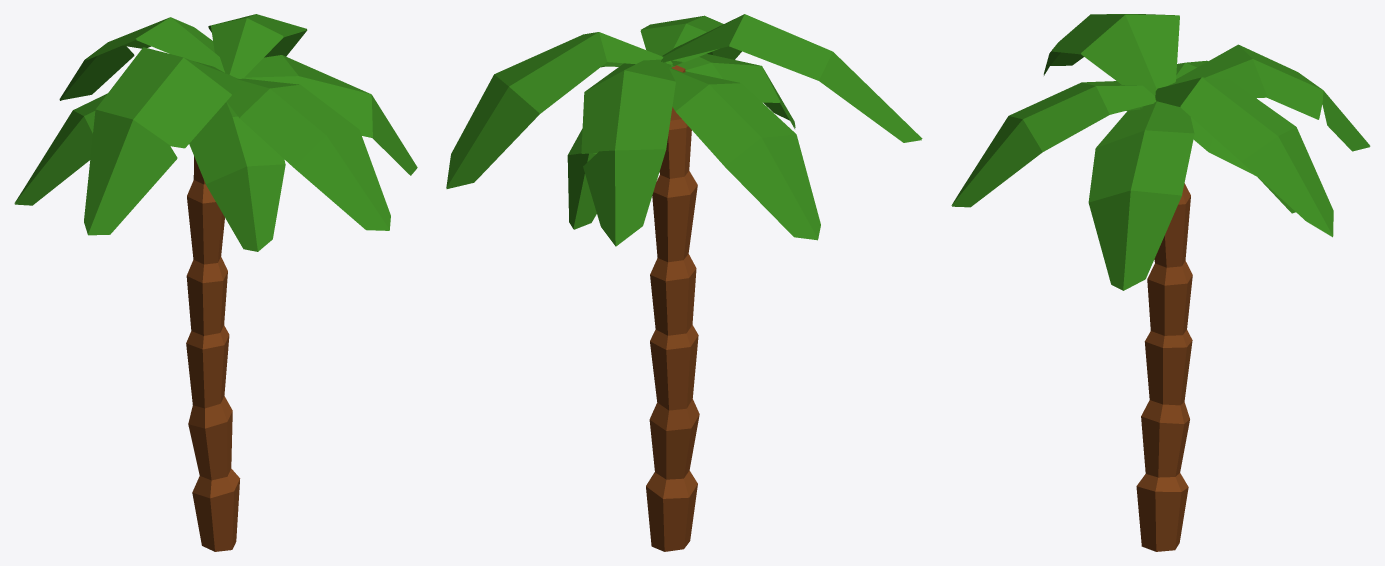
The model's file is PalmTree1.fbx.
3 views of the same model, side by side, from view 1: azimuth 30°, elevation 25°; view 2: azimuth 150°, elevation 25°; view 3: azimuth 270°, elevation 25° (orthographic). The views are drawn at different scales.
Parts seen in each view (by area): view 1: PalmTree1; view 2: PalmTree1; view 3: PalmTree1.
Part boxes in pixels (<box>): PalmTree1: <box>14,14,417,551</box>; PalmTree1: <box>446,14,922,551</box>; PalmTree1: <box>951,14,1370,551</box>.
Size of the model in its own units: 3.16 by 4.21 by 3.17.
